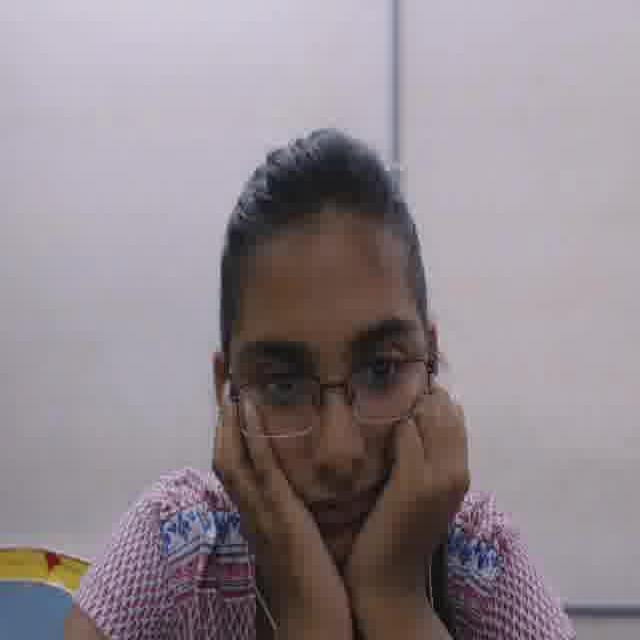Boredom: (226, 231, 422, 573)
